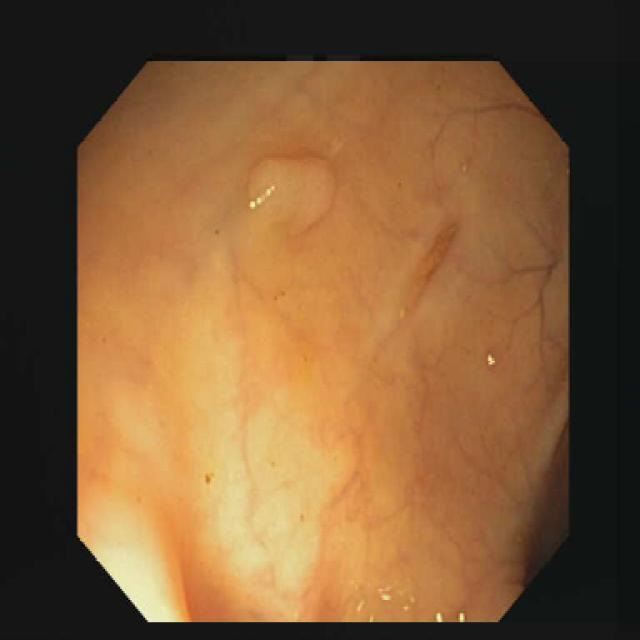tumor: (250, 156, 333, 236)
